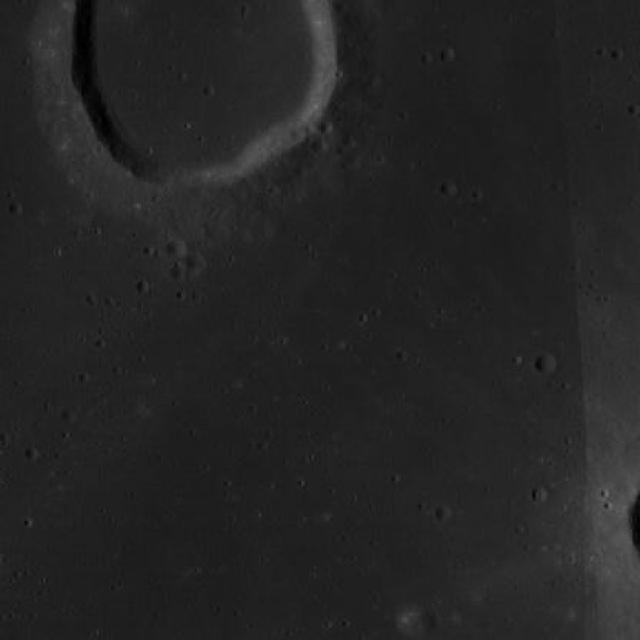crater: (60, 0, 338, 185), (164, 238, 184, 258), (183, 252, 203, 272), (534, 353, 554, 373), (168, 262, 186, 280), (530, 486, 548, 502), (316, 118, 333, 134), (313, 138, 329, 154)
